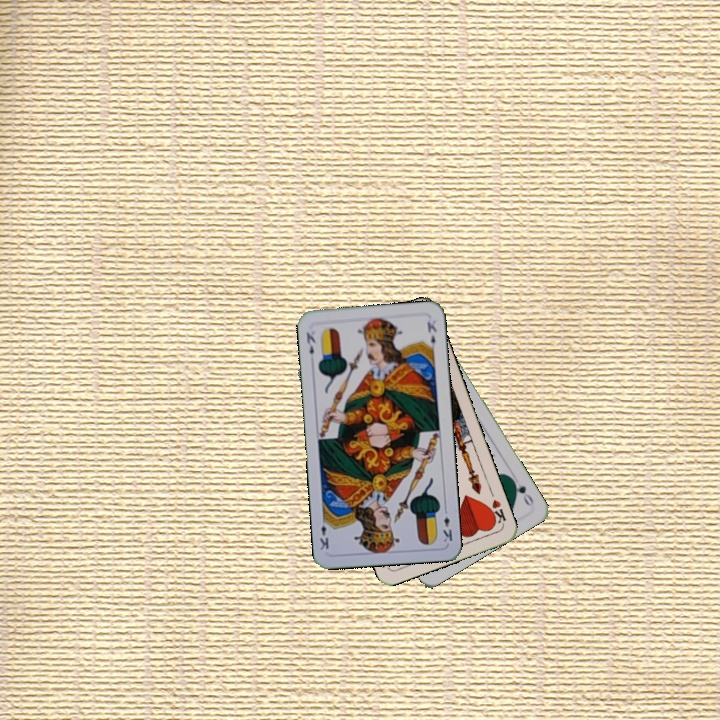EK: (439, 504, 455, 545), (302, 328, 318, 357)
GO: (507, 474, 536, 509)
HK: (484, 495, 508, 528)
